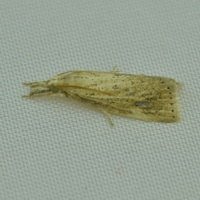insect: (23, 66, 181, 125)
